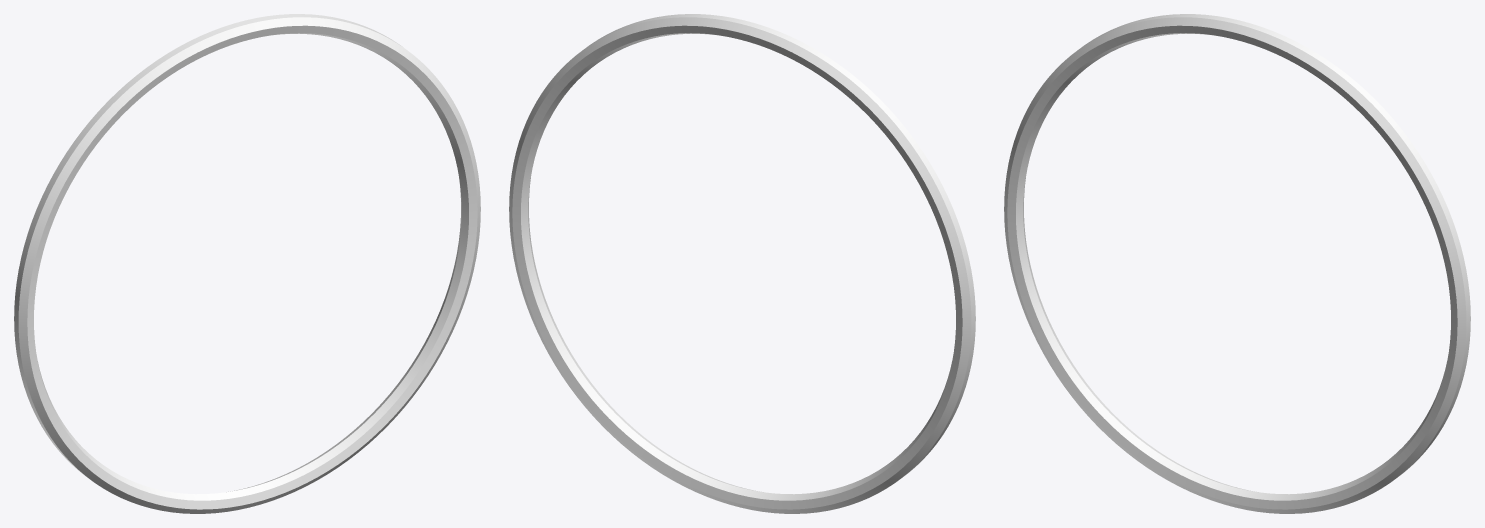
Rendered from gizmoRotateFacing.fbx.
3 renders of one model, left to right at view 1: azimuth 30°, elevation 25°; view 2: azimuth 150°, elevation 25°; view 3: azimuth 330°, elevation 25°, orthographic.
Visible parts, largest first — view 1: gizmoRotateFacing; view 2: gizmoRotateFacing; view 3: gizmoRotateFacing.
Boxes of the visible parts, x1,y1,x2,y2 form: gizmoRotateFacing: (14,14,480,513); gizmoRotateFacing: (509,14,975,513); gizmoRotateFacing: (1004,14,1470,513).
Bounding box in the file's own units: 71.22 × 71.22 × 2.67.
1 material, 1 textured.
